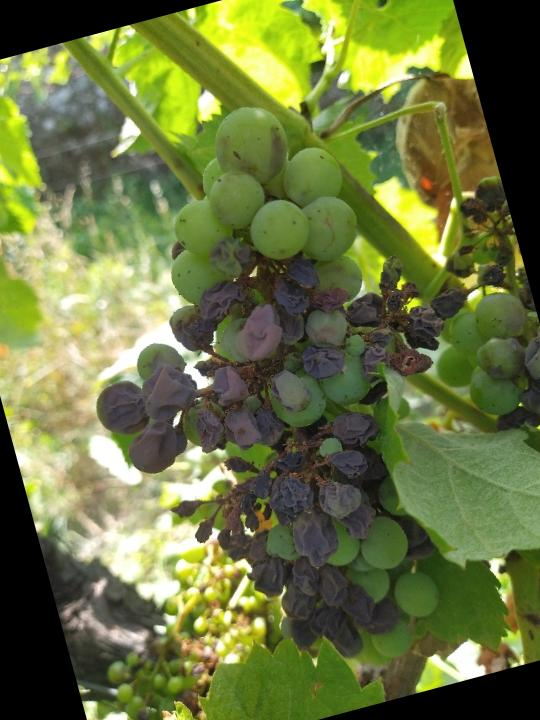grape: (26, 69, 527, 720)
